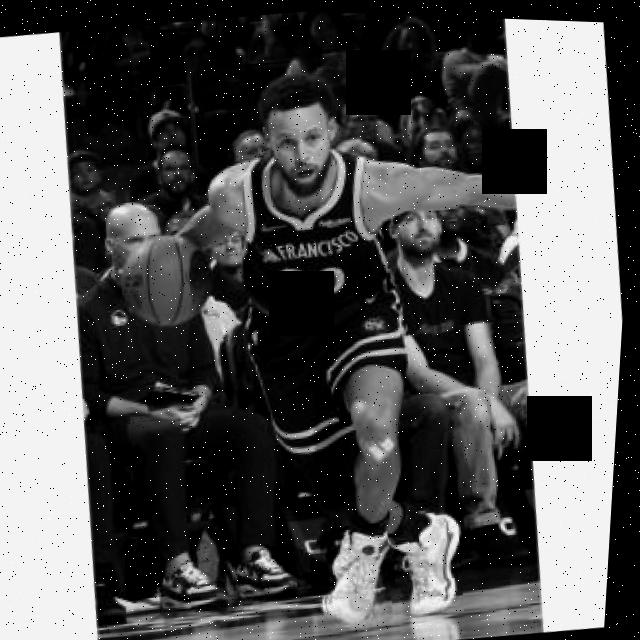shoe: (318, 517, 405, 627), (394, 501, 476, 617), (161, 550, 236, 614), (235, 541, 308, 600)
